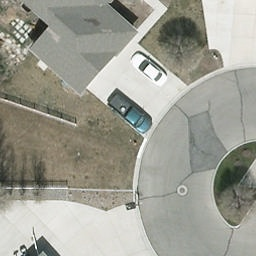car: (132, 50, 170, 89)
pickup: (108, 90, 155, 135)
